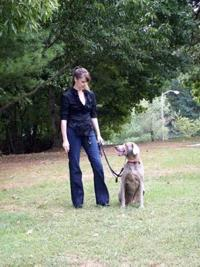person: (61, 68, 111, 207)
